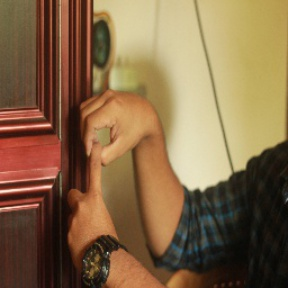Q: (61, 88, 149, 239)
